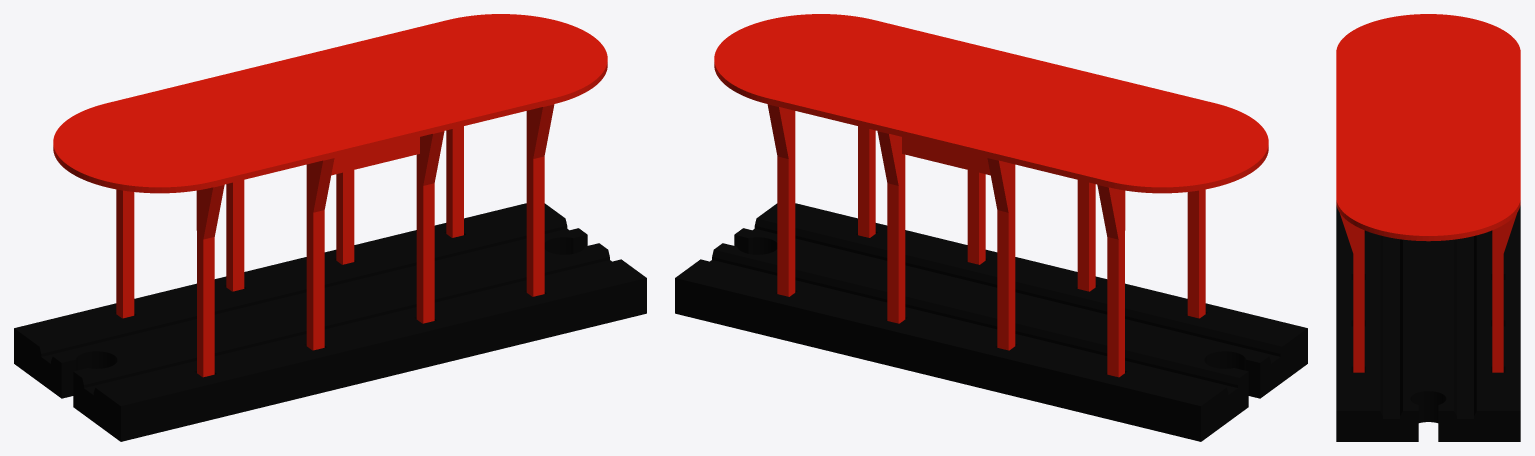
File: Station.fbx
3 views of the same model, side by side, from view 1: azimuth 30°, elevation 25°; view 2: azimuth 150°, elevation 25°; view 3: azimuth 270°, elevation 25° (orthographic). The views are drawn at different scales.
Parts seen in each view (by area): view 1: Train-station_by_PhiGl, Train-station_TRACK_by_PhiGl; view 2: Train-station_by_PhiGl, Train-station_TRACK_by_PhiGl; view 3: Train-station_by_PhiGl, Train-station_TRACK_by_PhiGl.
Boxes of the visible parts, <box> form: Train-station_by_PhiGl: <box>53,14,607,377</box>; Train-station_TRACK_by_PhiGl: <box>14,203,646,441</box>; Train-station_by_PhiGl: <box>714,14,1268,377</box>; Train-station_TRACK_by_PhiGl: <box>675,203,1307,441</box>; Train-station_by_PhiGl: <box>1336,14,1520,372</box>; Train-station_TRACK_by_PhiGl: <box>1336,205,1520,441</box>.
Bounding box in the file's own units: 18500 × 8001 × 6500.
